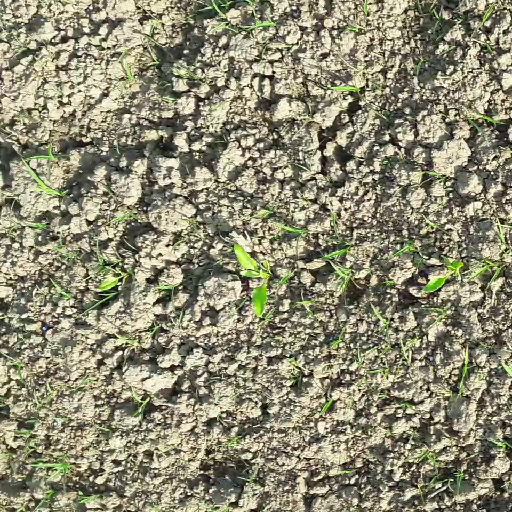sugarbeet: (208, 198, 512, 511), (2, 139, 194, 512), (120, 1, 493, 107), (231, 242, 271, 317), (421, 256, 465, 297), (462, 111, 507, 134), (97, 269, 135, 293), (424, 169, 453, 184)
